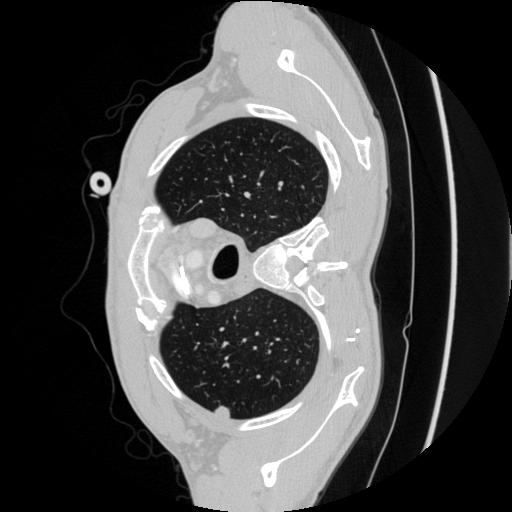nodule: (214, 402, 232, 420)
